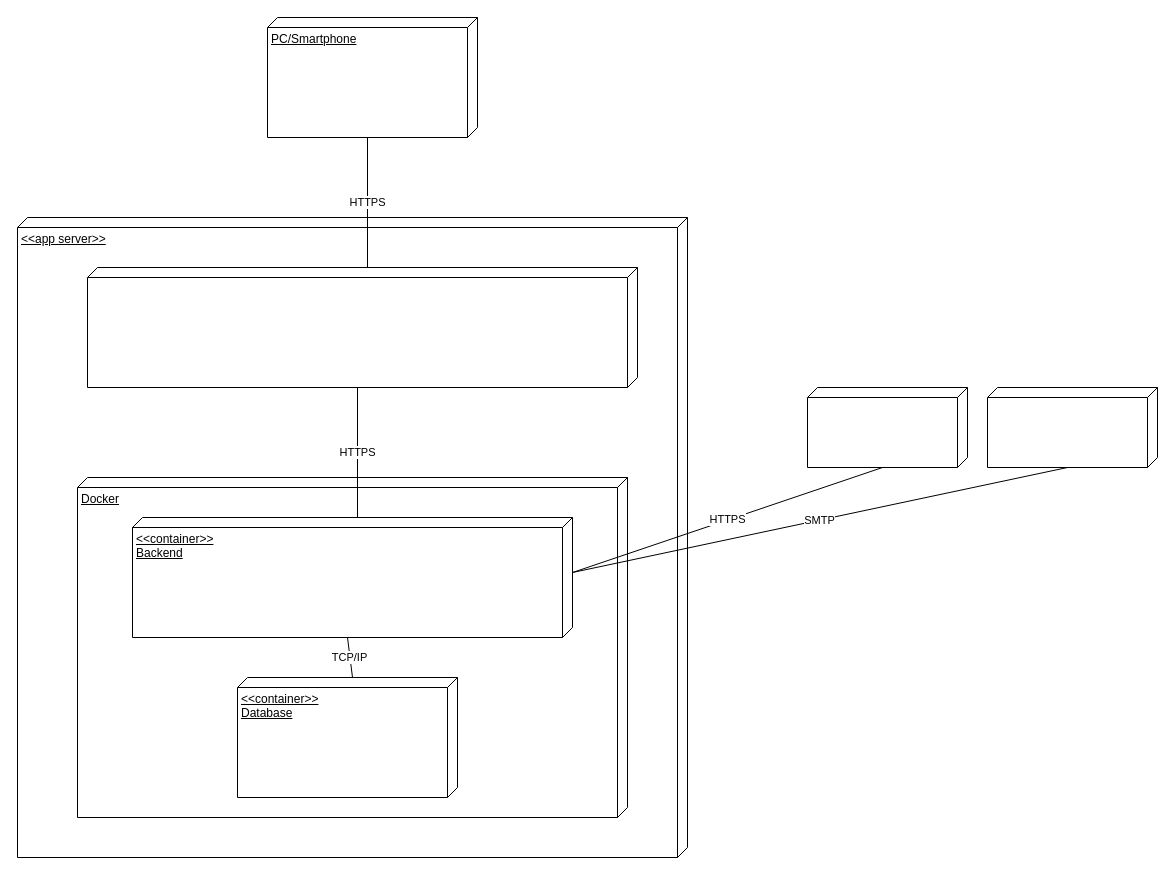
The diagram is 1175 pixels wide and 875 high, and some of its shapes have lost their labels. The shapes that lost their labels are listed below. From the top down, each one's centre as x and y in pixels, then its label:
point 362,327: <<web server>> Frontend
point 887,427: <<storage server>>
point 1072,427: <<email server>>
